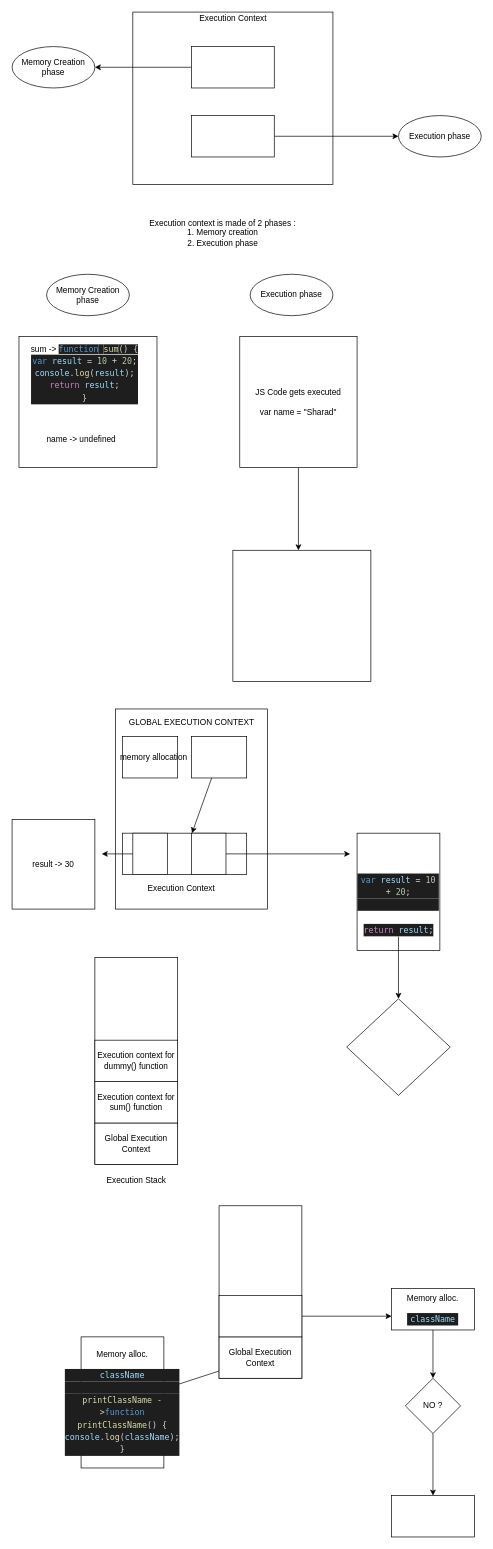
This 493x1549 diagram has some shape labels left out. Each missing label, with the box of its shape:
As soon as return statement is encountered, execution context gets destoryed: (346, 998, 450, 1095)
code: (191, 832, 226, 875)
code execution: (191, 736, 247, 778)
Execution context for printClassName () function: (218, 1295, 302, 1337)
memory: (132, 832, 167, 875)
name -> "Sharad": (232, 550, 371, 681)
Search in below execution context: (391, 1495, 474, 1537)
